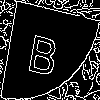B: (25, 24, 62, 77)
